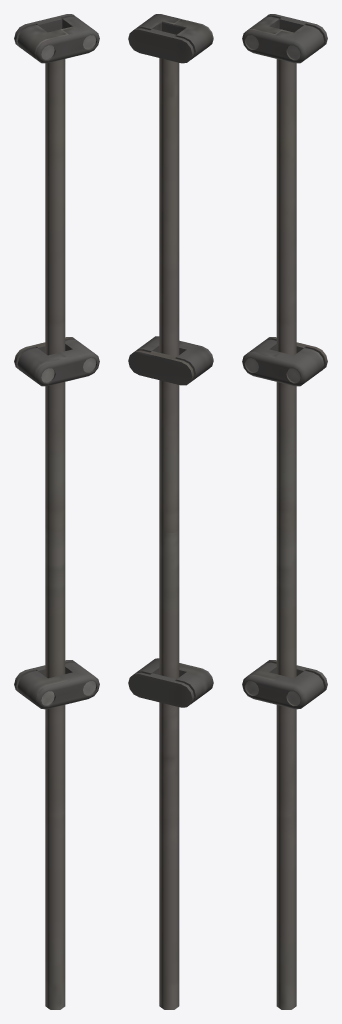
Rendered from wall-cable--1.gltf.
3 renders of one model, left to right at view 1: azimuth 30°, elevation 25°; view 2: azimuth 150°, elevation 25°; view 3: azimuth 330°, elevation 25°, orthographic.
Parts seen in each view (by area): view 1: cable_straight_long; view 2: cable_straight_long; view 3: cable_straight_long.
Part boxes in pixels (x1=…): cable_straight_long: x1=14, y1=14, x2=99, y2=1009; cable_straight_long: x1=128, y1=14, x2=213, y2=1009; cable_straight_long: x1=242, y1=14, x2=327, y2=1009.
Size of the model in its own units: 0.0417 by 0.6073 by 0.0259.
1 material, 1 textured.
